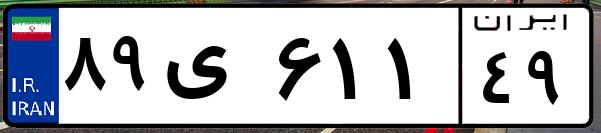1: (385, 28, 445, 110), (330, 28, 385, 110)
4: (475, 38, 525, 113)
6: (270, 28, 330, 110)
8: (57, 26, 110, 100)
9: (525, 38, 570, 115), (110, 28, 158, 98)
ی: (158, 20, 270, 120)
